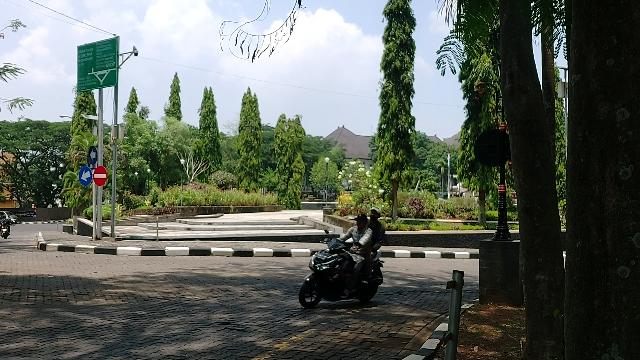motor: (300, 239, 385, 309)
non-helm: (371, 208, 383, 222), (357, 216, 369, 229)
